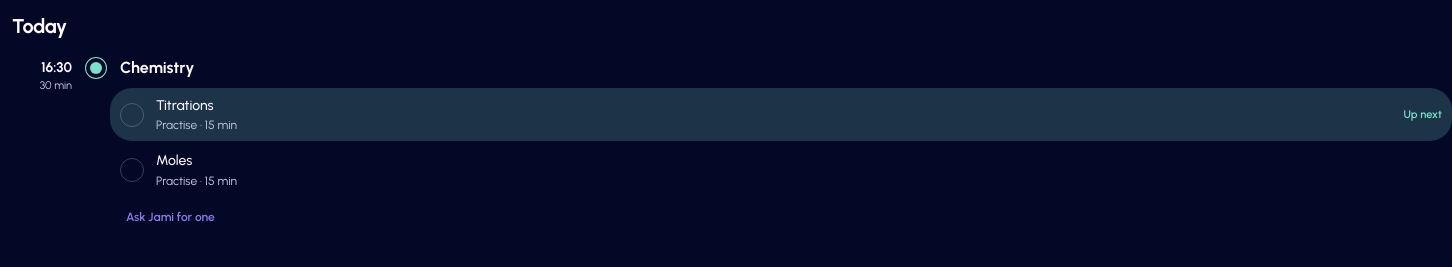
Test: a day in the plan › says when Jami has nothing more to offer a sitting
Click the button "Ask Jami for one" at (170, 216), box [120,204,221,228]
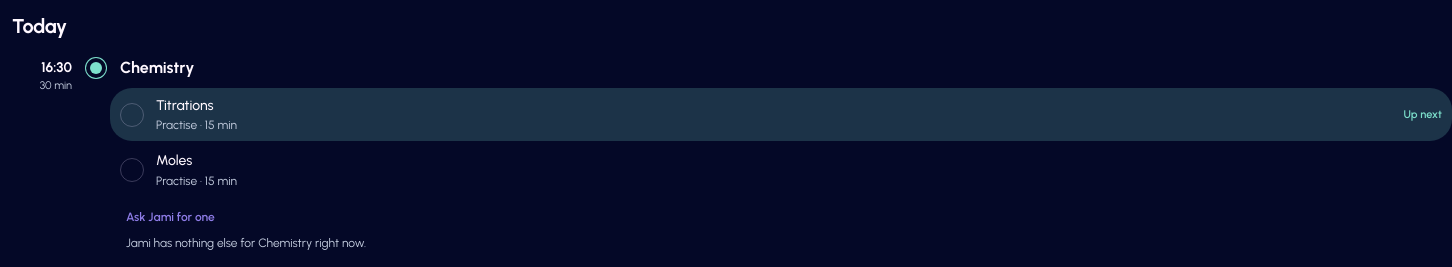
Expected: the text "Jami has nothing else for Chemistry right now." is shown, [126,236,366,250]
